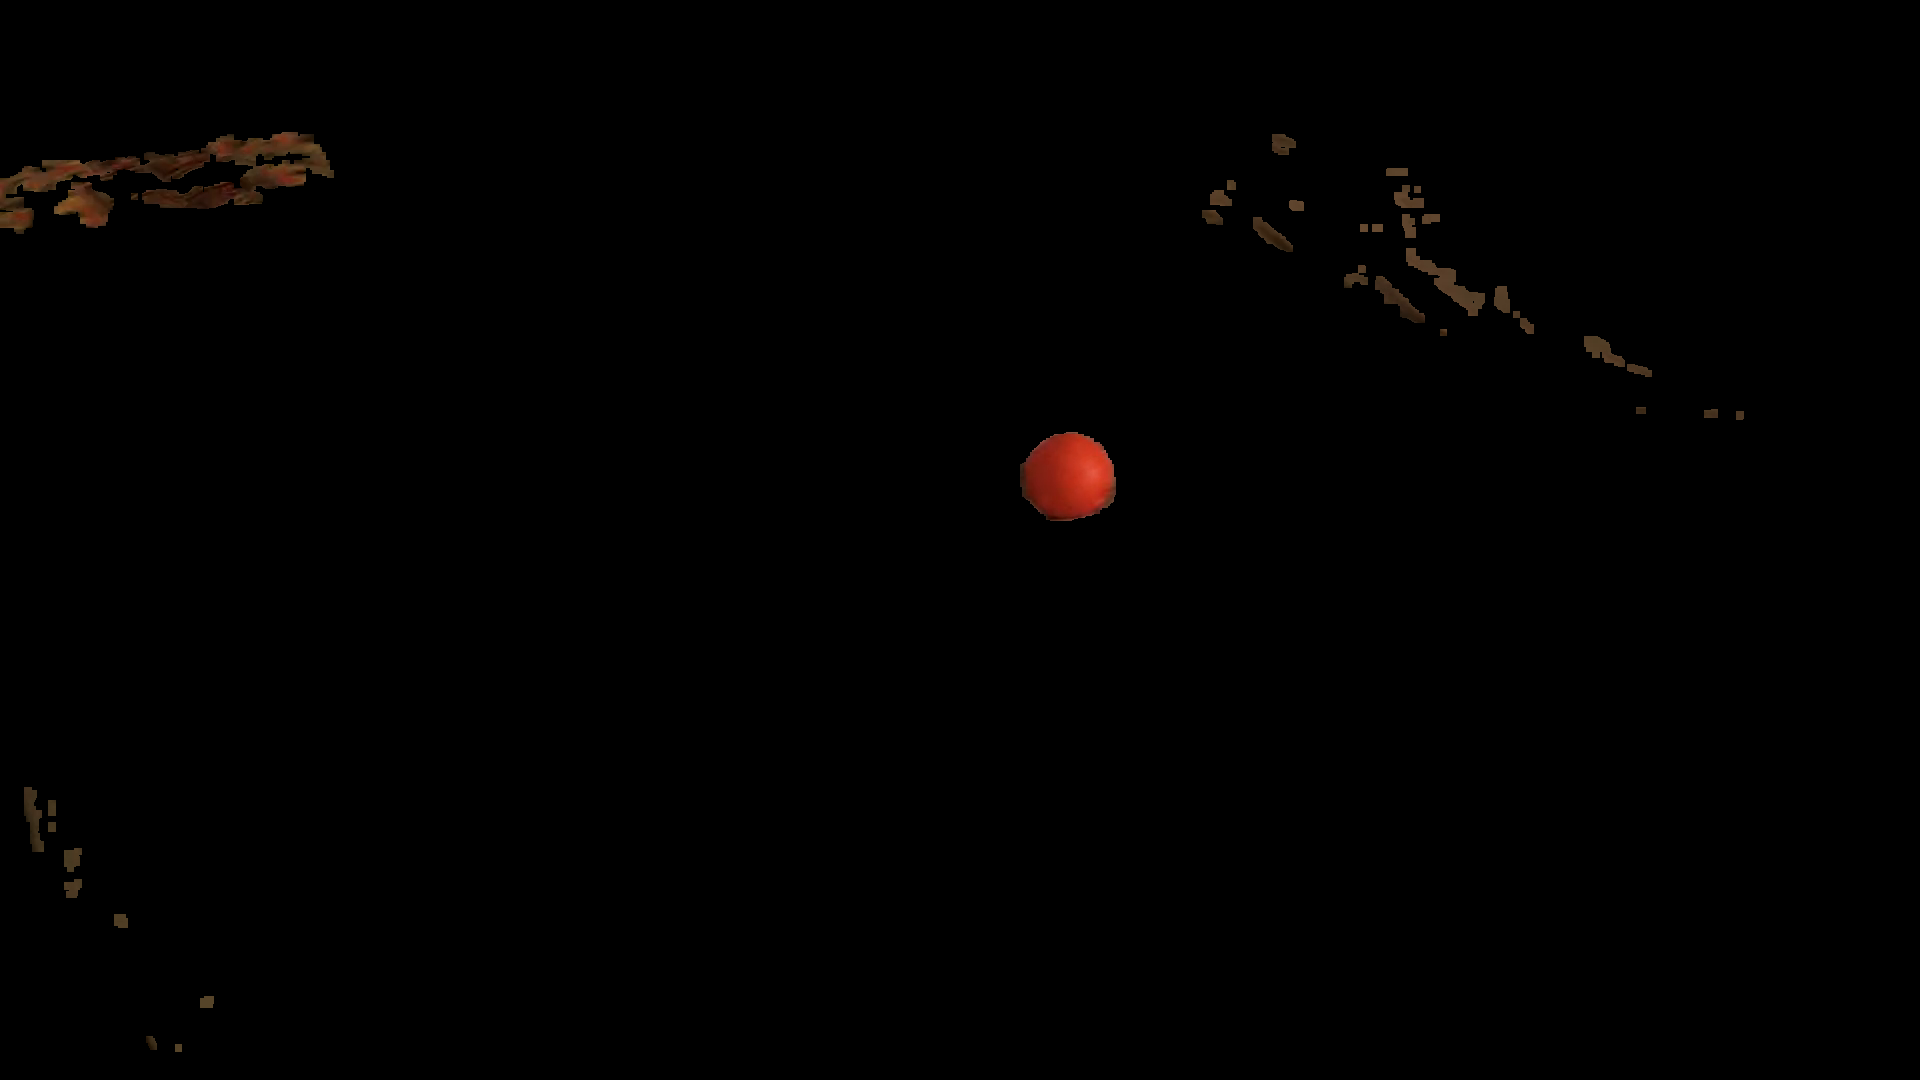Ball: (1025, 433, 1116, 520)
